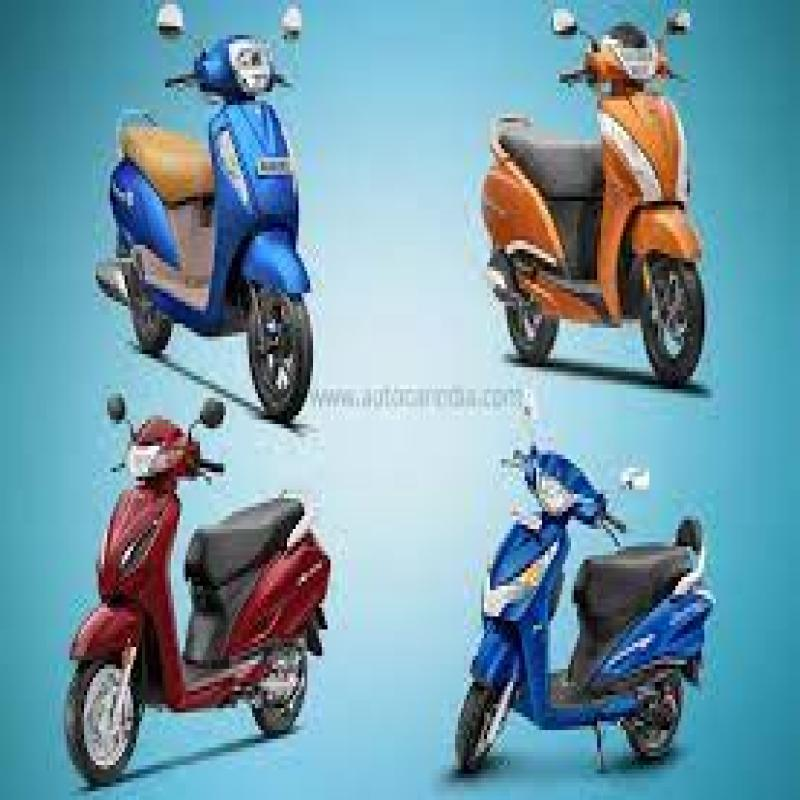bike: (5, 389, 346, 772), (64, 7, 363, 422), (460, 373, 722, 800), (474, 0, 719, 397)
